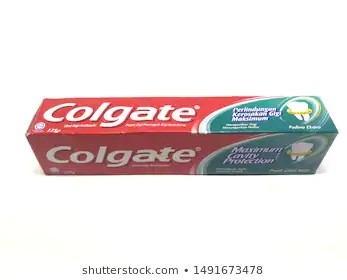colgate-small: (31, 92, 332, 177)
